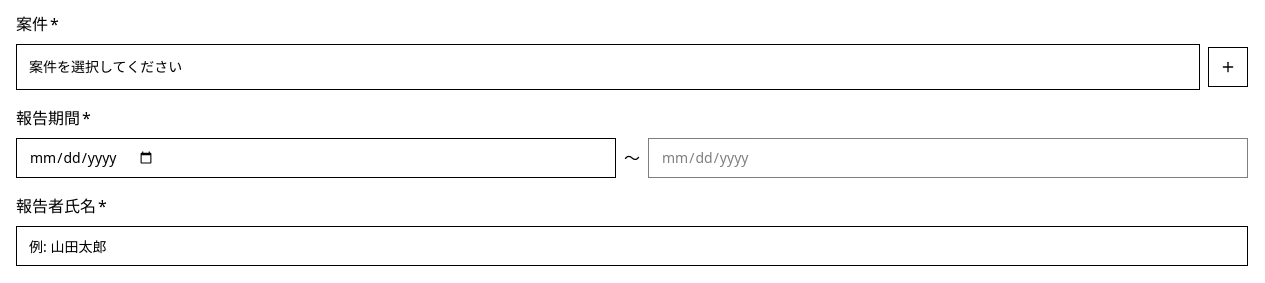
Test: BasicInfoForm › updates reportPeriodEnd when reportPeriodStart changes
Type "2023-03-10" into the date field with test id "report-period-start-input" at (316, 158), box [16, 138, 616, 178]
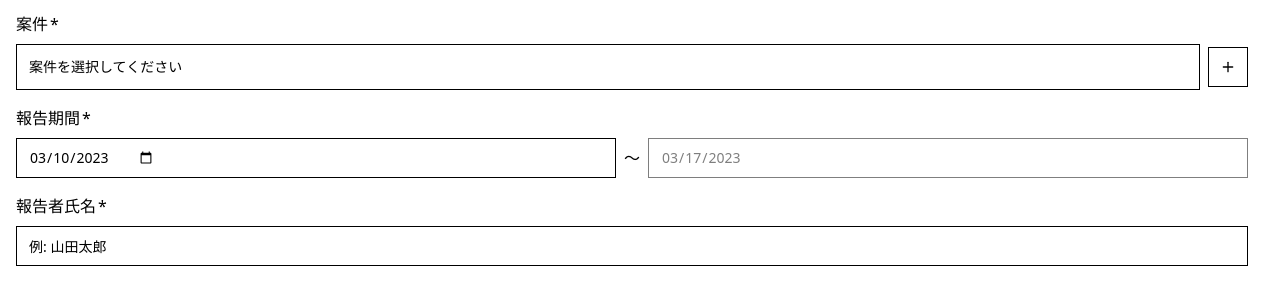
Result: the date field showing "2023-03-17" is shown at [648, 138, 1248, 178]
